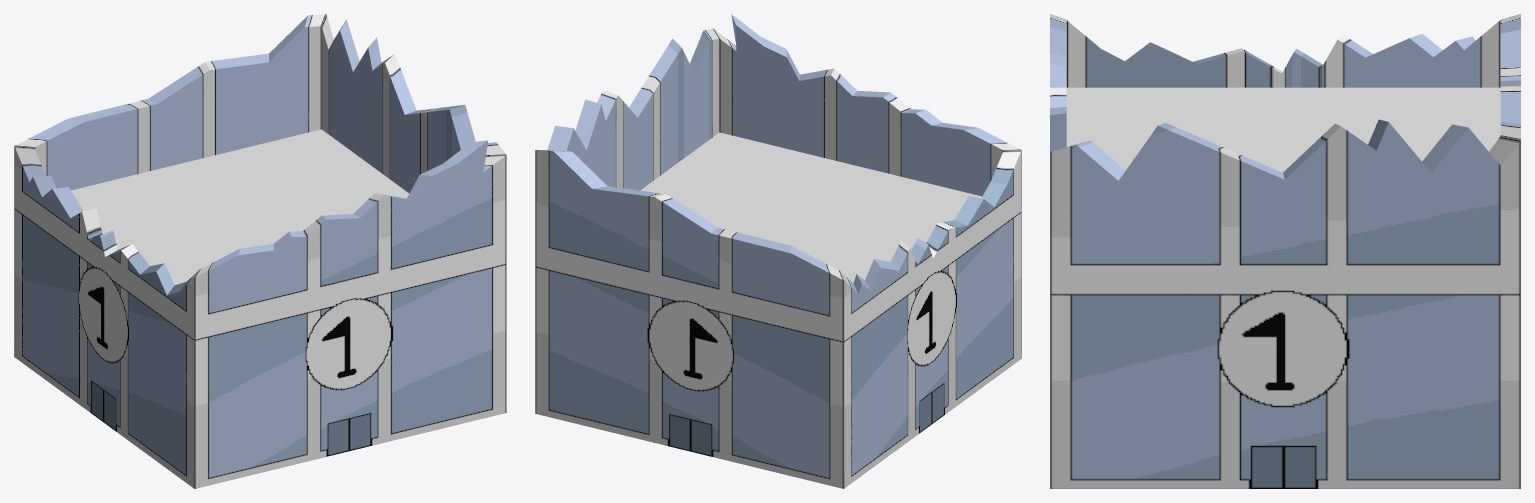
Rendered from BigBuildingDestroyed.fbx.
3 renders of one model, left to right at view 1: azimuth 30°, elevation 25°; view 2: azimuth 150°, elevation 25°; view 3: azimuth 270°, elevation 25°, orthographic. The views are drawn at different scales.
Visible parts, largest first — view 1: Cube; view 2: Cube; view 3: Cube.
Boxes of the visible parts, bbox=[...] form: Cube: bbox=[14, 14, 506, 488]; Cube: bbox=[535, 14, 1021, 488]; Cube: bbox=[1050, 14, 1520, 488].
Size of the model in its own units: 400 by 344 by 400.
